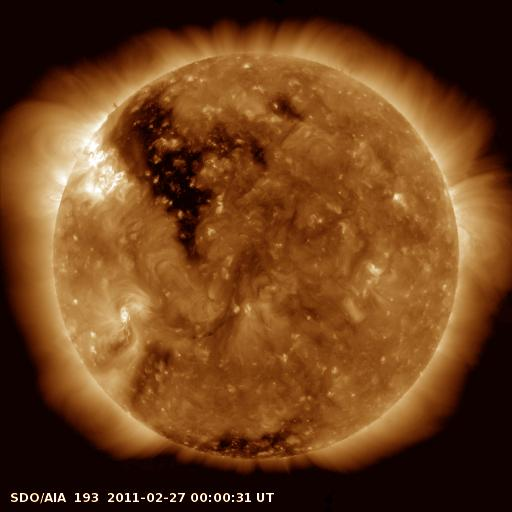coronal_hole: (104, 86, 267, 256), (196, 424, 311, 459)
